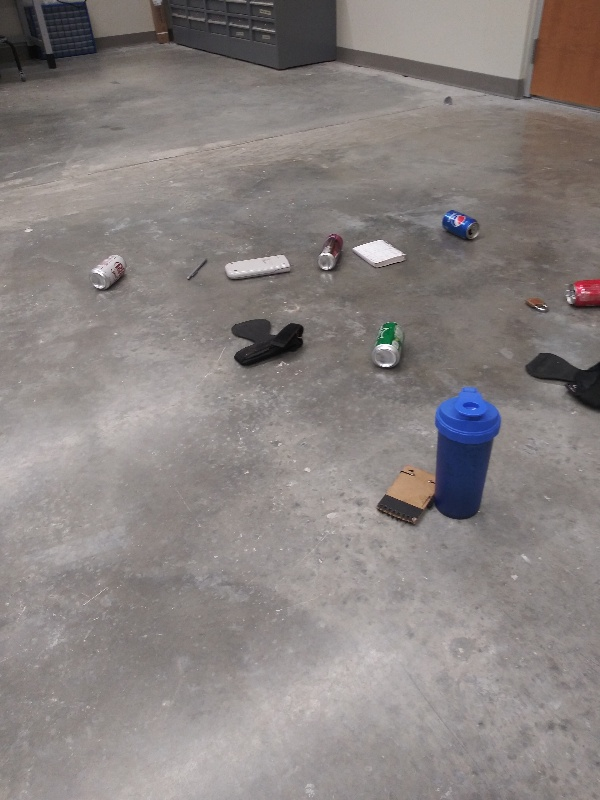can: (89, 247, 131, 295), (369, 317, 407, 369), (438, 207, 484, 247), (314, 229, 349, 275), (561, 275, 600, 315)
